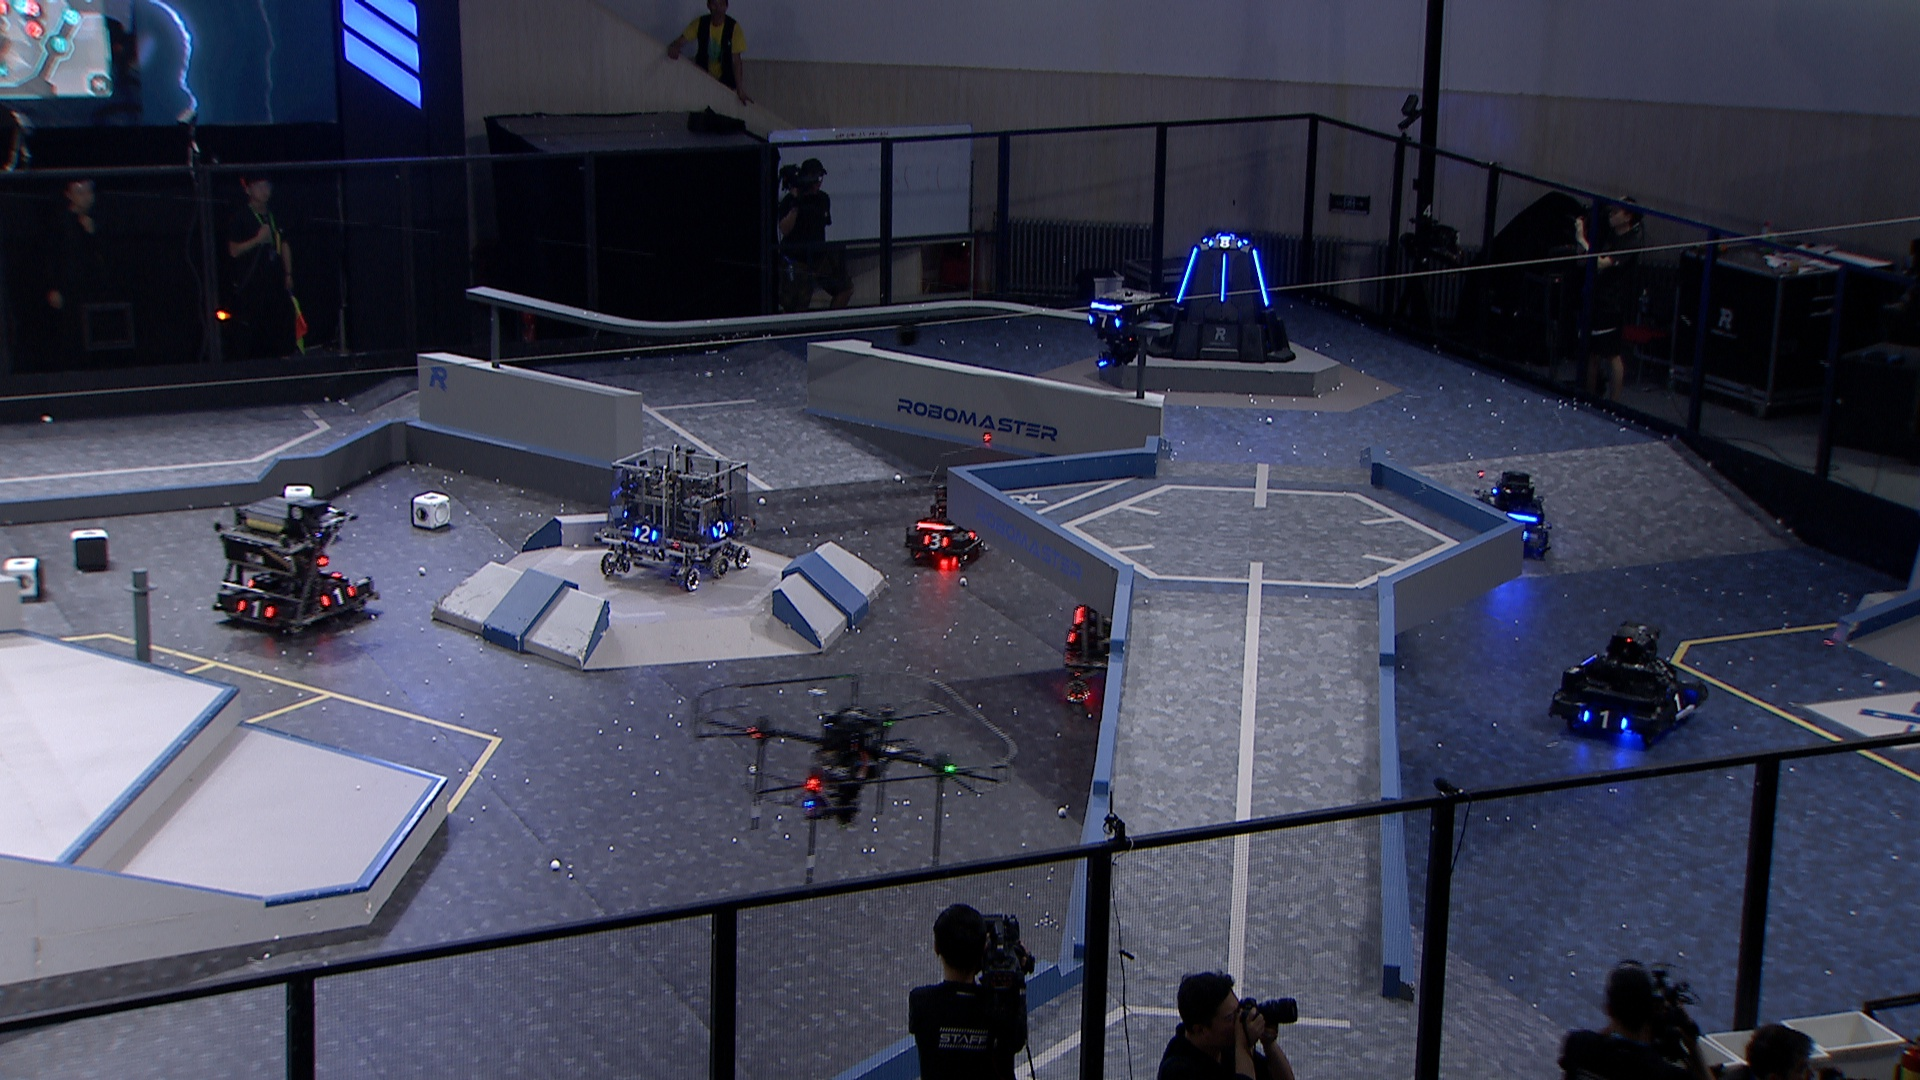armor: (1576, 709, 1631, 735), (1251, 248, 1275, 306), (1176, 247, 1200, 302), (235, 597, 281, 622), (315, 585, 357, 609), (920, 531, 951, 553), (1084, 313, 1121, 330), (632, 524, 659, 545), (1218, 255, 1229, 305), (707, 520, 731, 541), (1664, 694, 1689, 713), (1207, 237, 1244, 251)
base: (1139, 229, 1296, 365)
car: (211, 495, 378, 644), (593, 444, 760, 593), (1059, 559, 1199, 707), (1548, 617, 1704, 746), (1468, 465, 1553, 556), (902, 483, 988, 570)
watcher: (1077, 285, 1159, 375)
